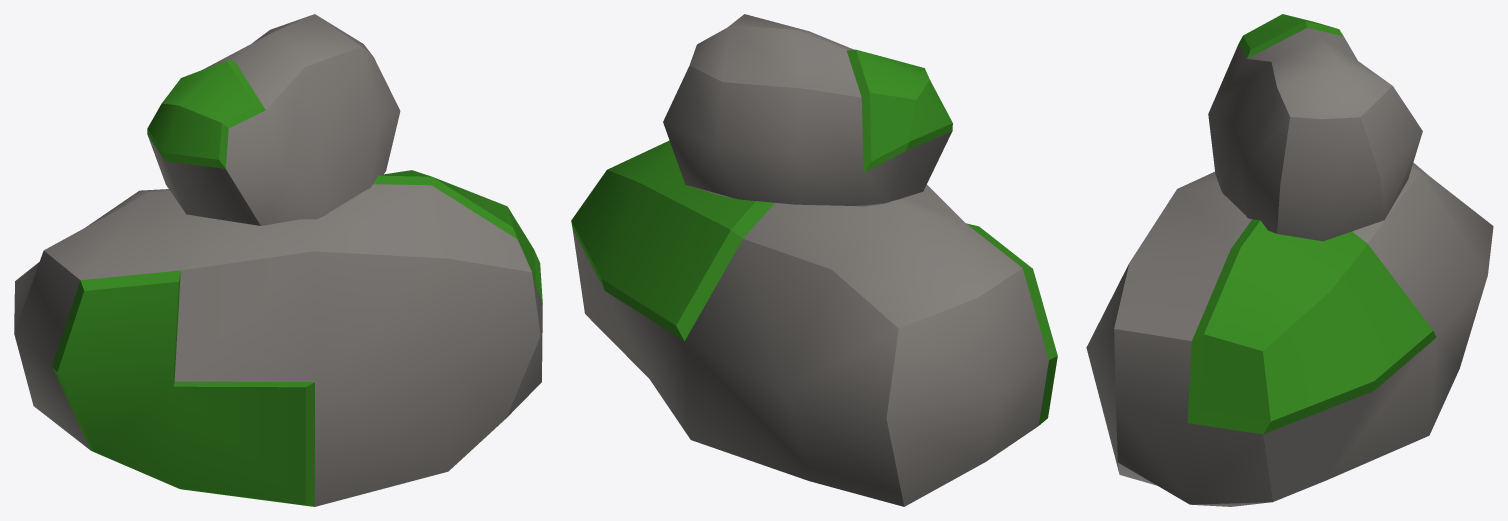
Rendered from Stone_06.fbx.
3 renders of one model, left to right at view 1: azimuth 30°, elevation 25°; view 2: azimuth 150°, elevation 25°; view 3: azimuth 270°, elevation 25°, orthographic. The views are drawn at different scales.
Visible parts, largest first — view 1: Stone_005; view 2: Stone_005; view 3: Stone_005.
Boxes of the visible parts, x1,y1,x2,y2 form: Stone_005: [14, 14, 542, 506]; Stone_005: [571, 14, 1057, 506]; Stone_005: [1086, 14, 1493, 506].
Size of the model in its own units: 93.76 by 75.73 by 67.72.
1 material, 1 textured.
